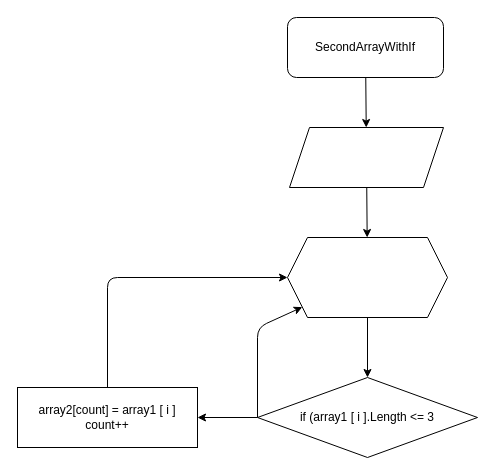
This 495x475 diagram has some shape labels left out. The shapes that lost their labels are listed below. From the top down, each one's centre as x and y in pixels, then its label:
At pixel 366 157: "string[ ] array1 string[ ] array2 int count = 0".
At pixel 367 277: "for (int i = 0; i < array1.Length; i++ )".
